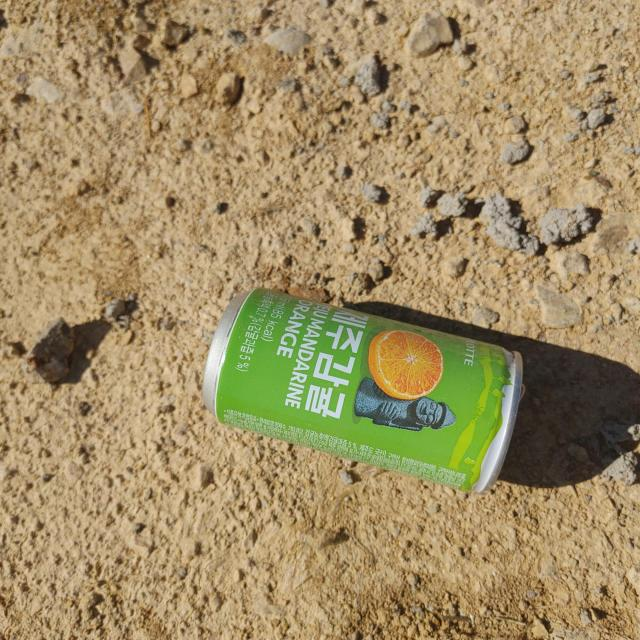can: (202, 288, 523, 493)
